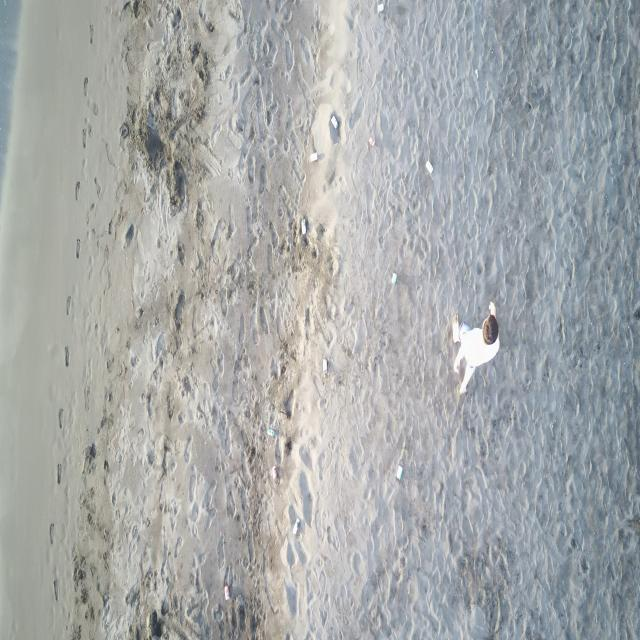Garbage: (292, 517, 300, 535), (395, 464, 403, 479), (223, 584, 230, 600), (300, 218, 306, 235), (272, 464, 278, 480), (329, 116, 336, 128), (308, 152, 318, 160), (322, 357, 327, 373), (267, 427, 275, 436), (367, 136, 373, 147), (376, 3, 383, 12), (427, 160, 432, 172), (391, 272, 395, 283), (473, 68, 476, 76)
